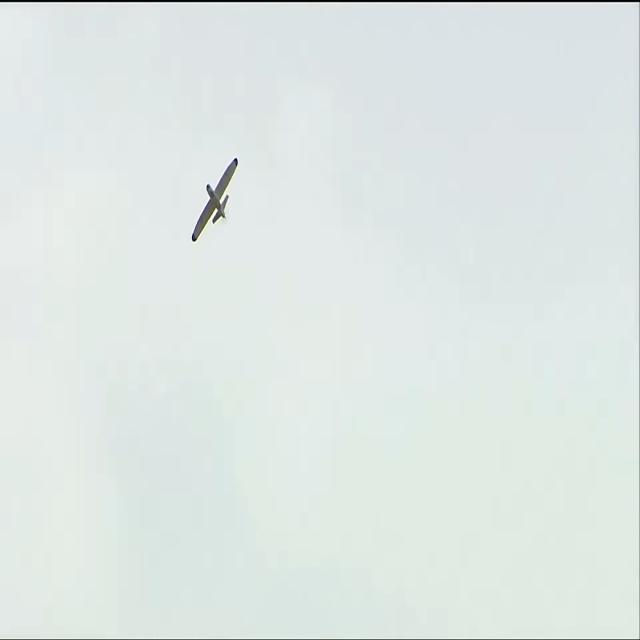iha: (190, 181, 239, 204)
